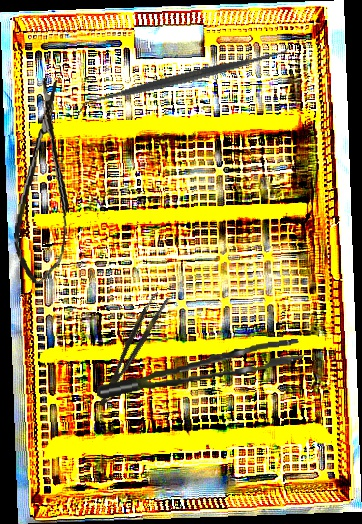Micro Scissor: (9, 76, 82, 287)
Spatula Surgical: (73, 39, 294, 118)
Tissue Forceps: (94, 338, 306, 399), (89, 290, 171, 408)
